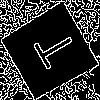T: (24, 26, 80, 75)
